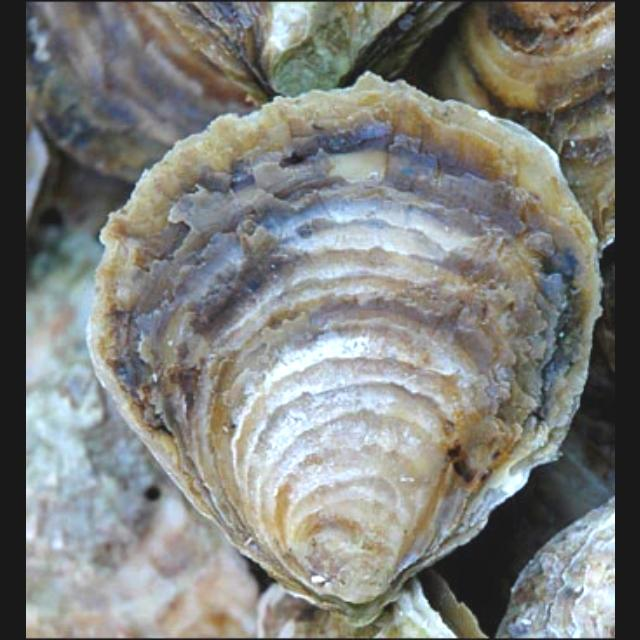Oyster-Closed: (84, 68, 601, 613), (25, 161, 257, 640), (425, 0, 614, 251), (25, 0, 267, 185), (144, 0, 465, 105), (494, 495, 614, 640), (255, 571, 494, 640)
